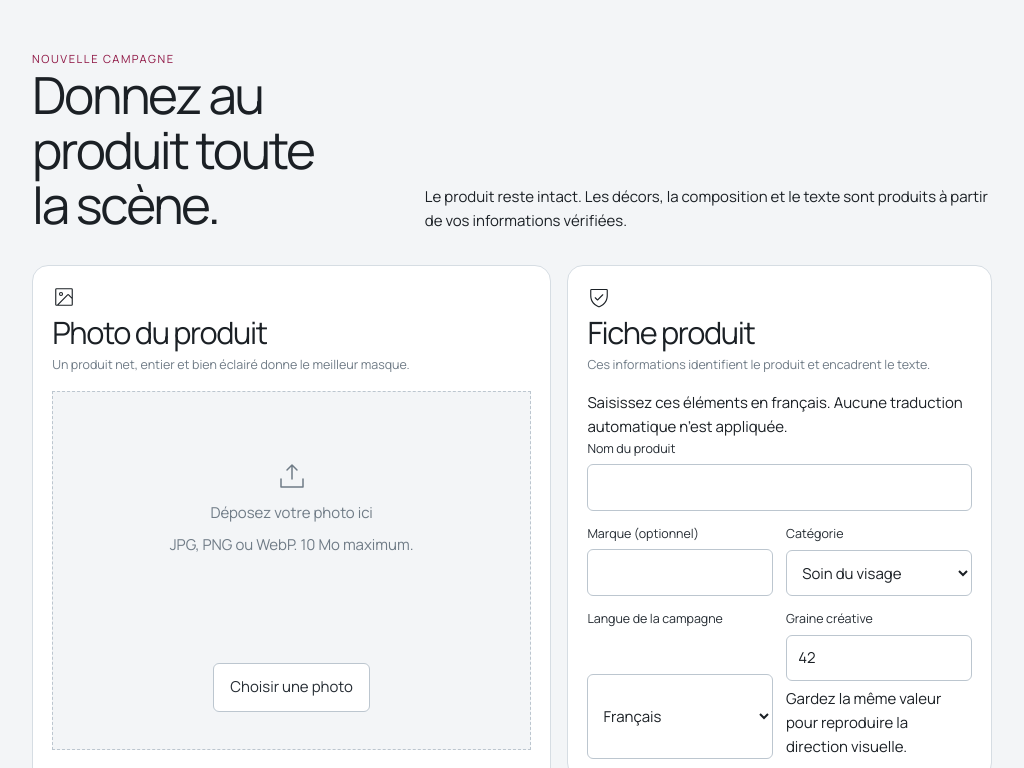
Test: campaign creation › states the evidence language explicitly and updates it with the campaign
This screenshot has width=1024, height=768.
Expected: the text "Saisissez ces éléments en français" is shown, top-left (587, 391), bottom-right (972, 439)
Select "Anglais" in the dropdown labelled "Langue de la campagne" at (680, 716), box top-left (587, 674), bottom-right (773, 759)
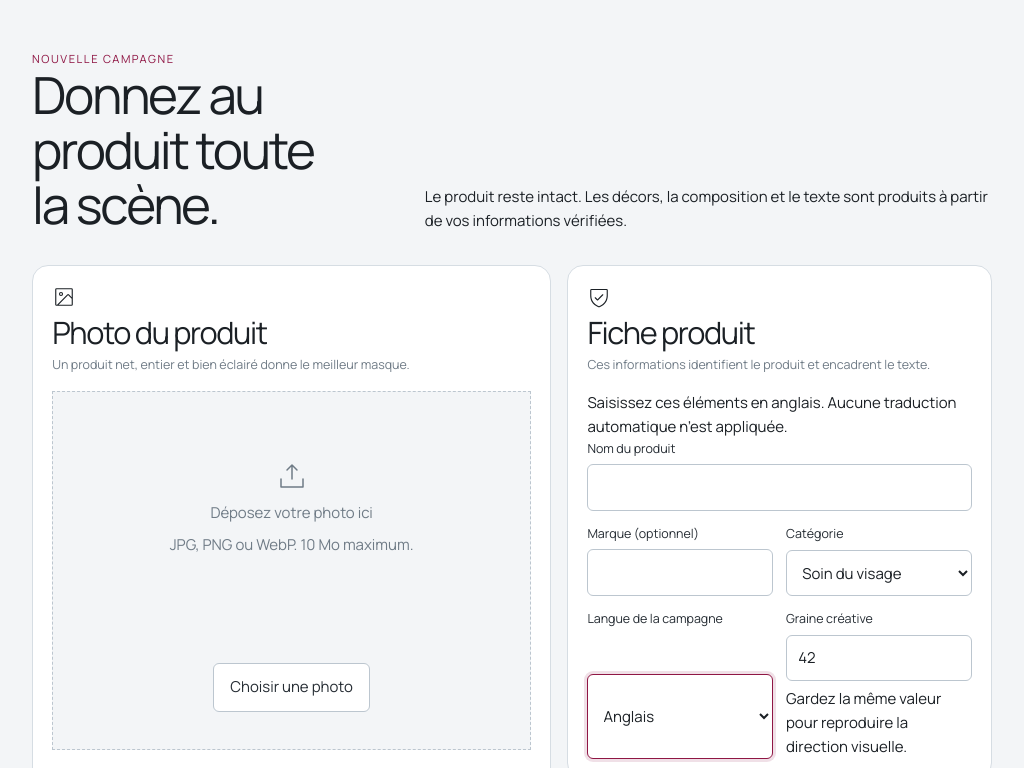
Expected: the text "Aucune traduction automatique" is shown, top-left (587, 392), bottom-right (957, 437)
Now the text "Saisissez ces éléments en anglais" is shown, box top-left (587, 391), bottom-right (972, 439)
